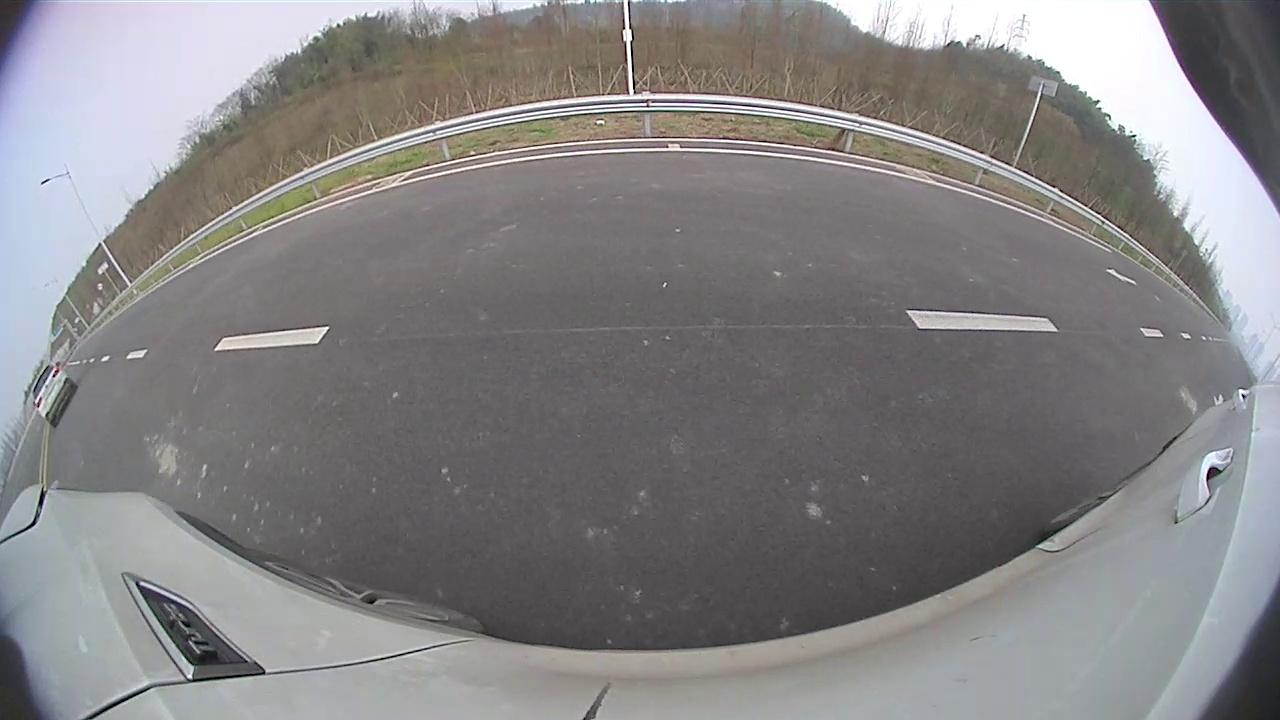car: (31, 364, 76, 429)
